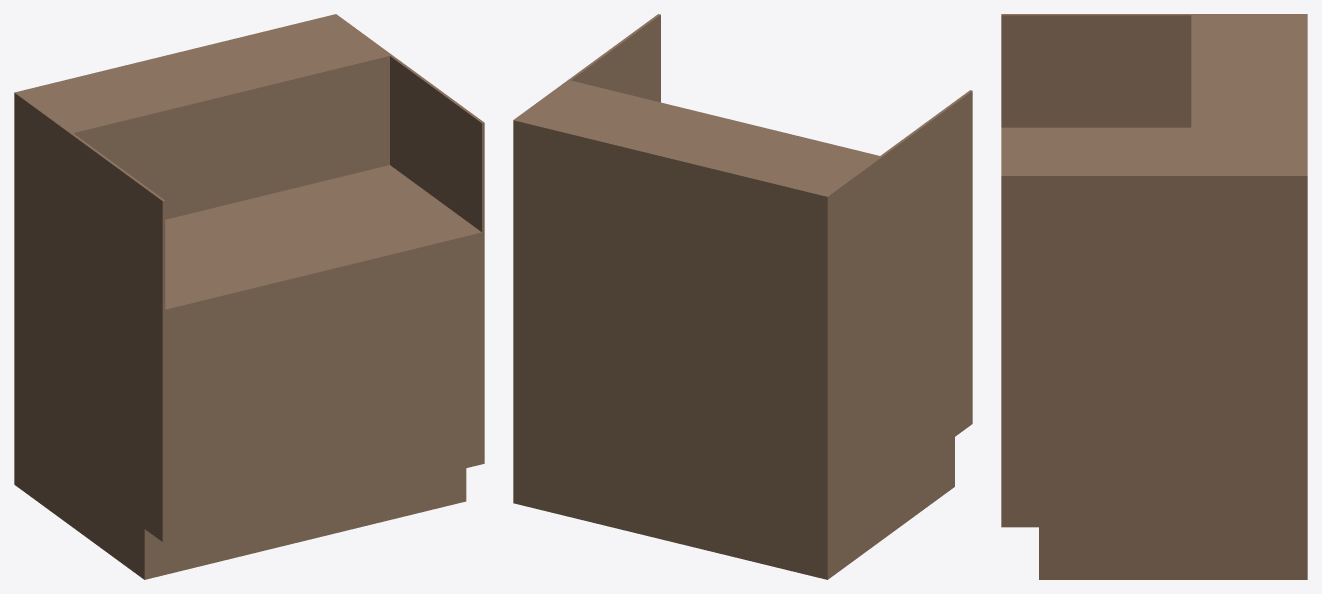
File: base_cabinet_05.obj
The picture shows the model from 3 angles, left to right: view 1: azimuth 30°, elevation 25°; view 2: azimuth 150°, elevation 25°; view 3: azimuth 270°, elevation 25°; orthographic projection. The views are drawn at different scales.
Visible parts, largest first — view 1: base_cabinet_05; view 2: base_cabinet_05; view 3: base_cabinet_05.
Boxes of the visible parts, bbox=[...] form: base_cabinet_05: bbox=[14, 14, 484, 579]; base_cabinet_05: bbox=[513, 14, 972, 579]; base_cabinet_05: bbox=[1001, 14, 1307, 579].
Size of the model in its own units: 775 by 902 by 619.
